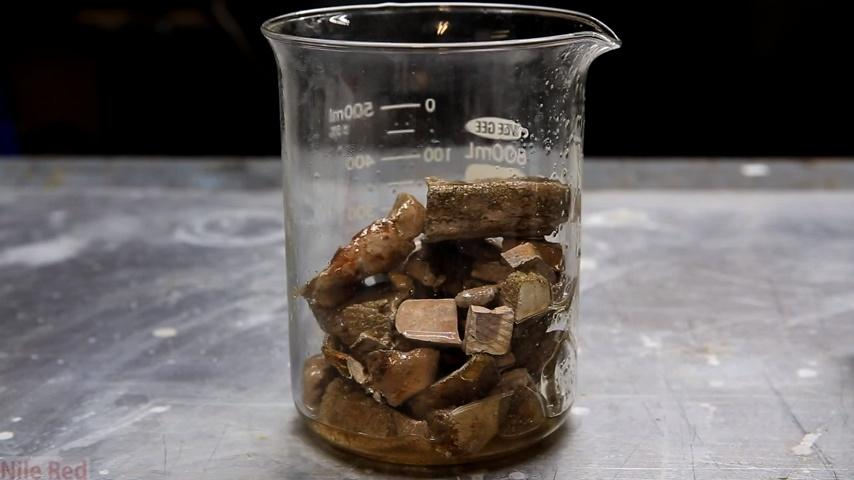Beaker: (242, 8, 624, 463)
